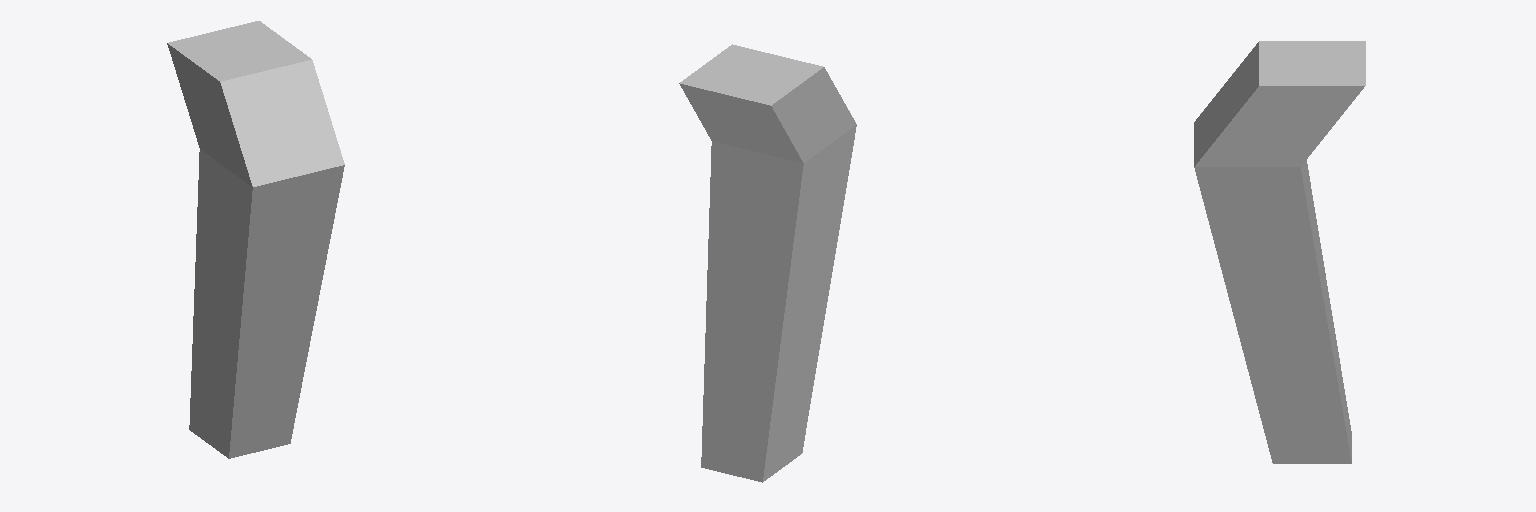
The model's file is hunchback.obj.
The picture shows the model from 3 angles: view 1: azimuth 30°, elevation 25°; view 2: azimuth 150°, elevation 25°; view 3: azimuth 270°, elevation 25°; orthographic projection.
Parts seen in each view (by area): view 1: Cube_Cube.001; view 2: Cube_Cube.001; view 3: Cube_Cube.001.
Boxes of the visible parts, x1=… form: Cube_Cube.001: x1=167, y1=21, x2=344, y2=458; Cube_Cube.001: x1=679, y1=44, x2=856, y2=482; Cube_Cube.001: x1=1194, y1=41, x2=1365, y2=463.
Bounding box in the file's own units: 2 × 8 × 3.23.